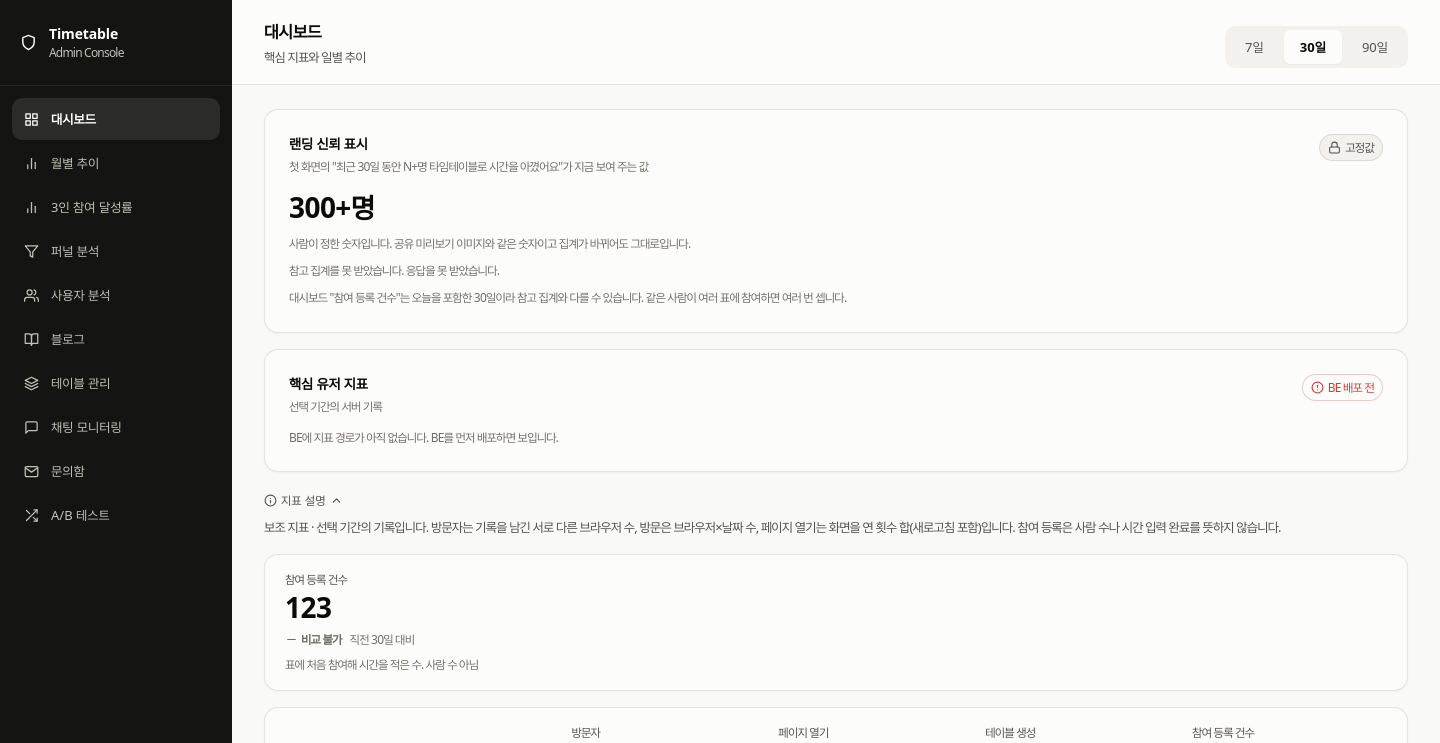
월별 기록의 빈 상태와 조회 실패를 구분하고 재시도한다
This screenshot has width=1440, height=743.
Click the button "월별 추이" at (116, 163), box 12,142 -> 220,184
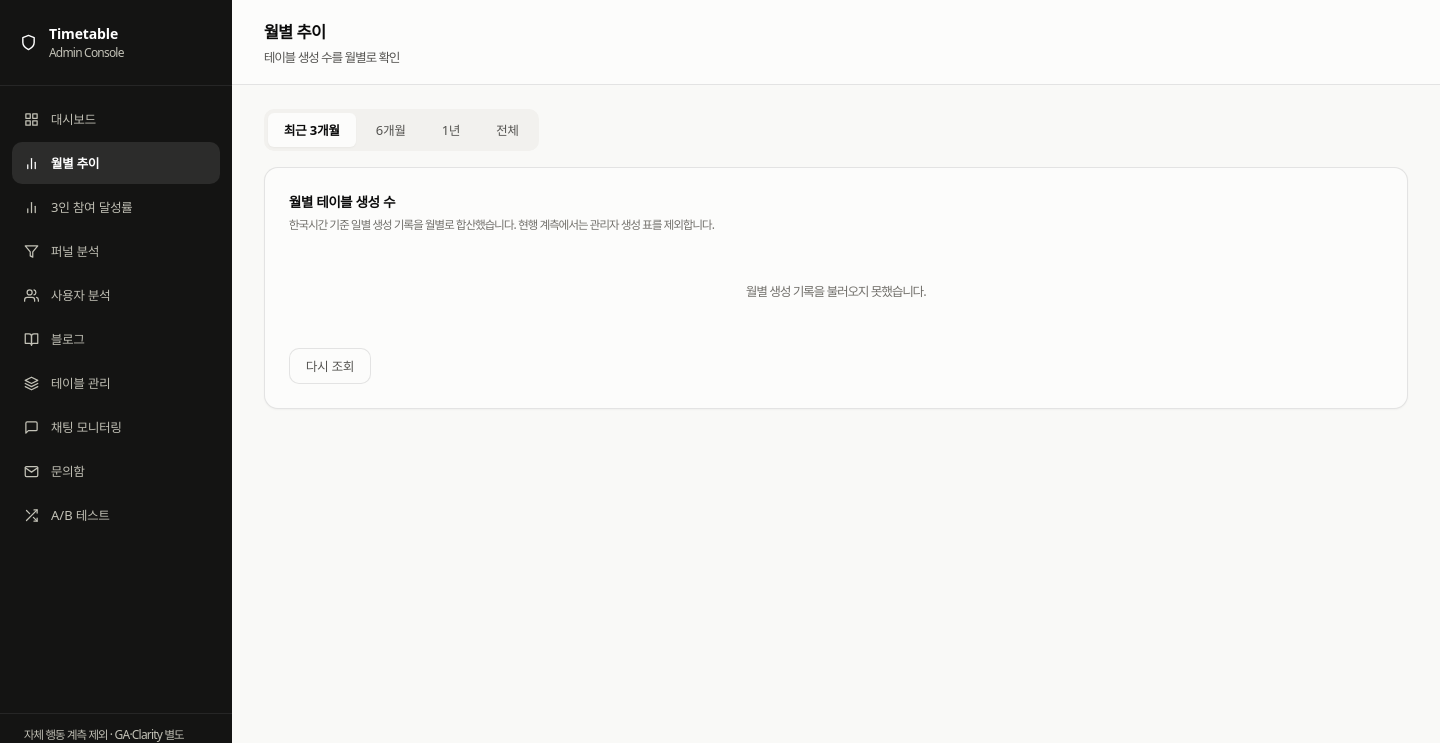
Result: the text "월별 생성 기록을 불러오지 못했습니다." is shown at 746,282 -> 926,300
Click the button "다시 조회" at (330, 366), box 289,348 -> 371,384
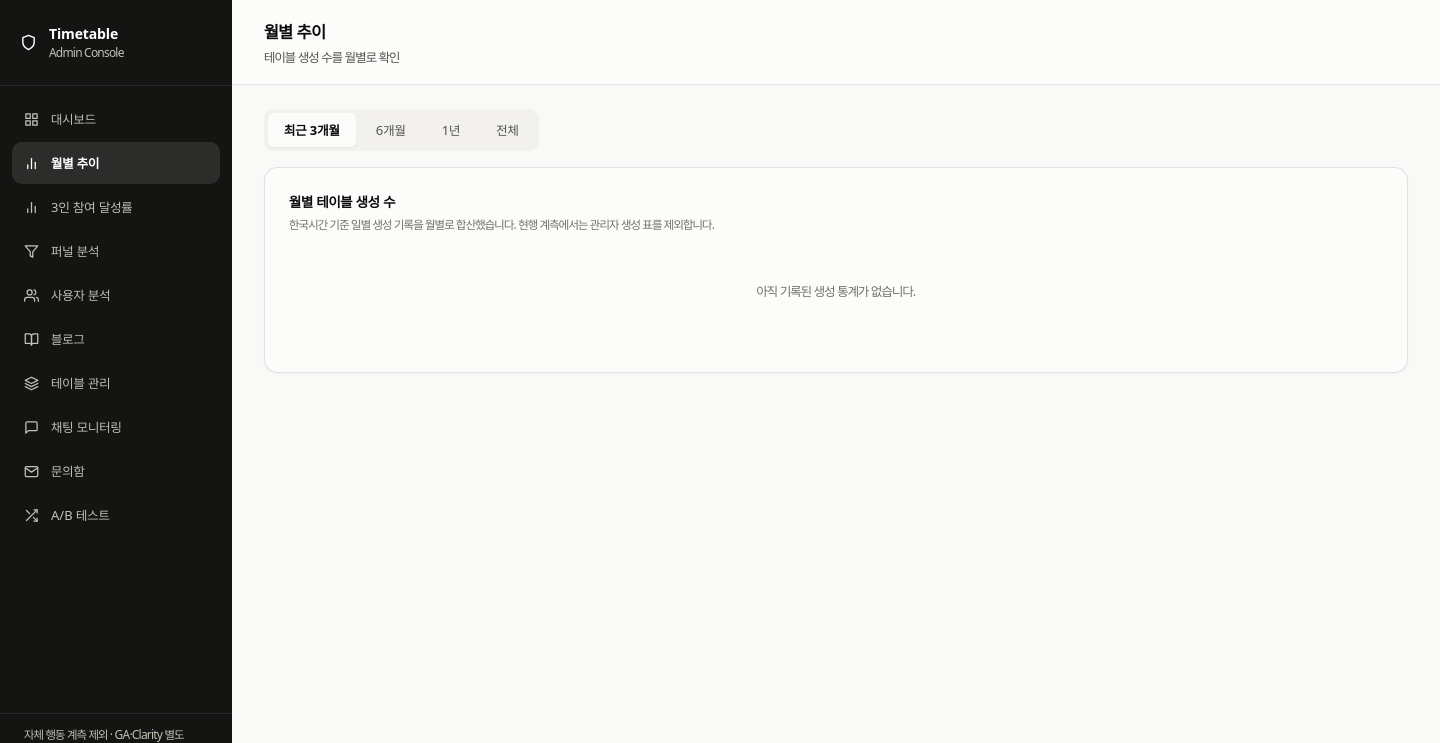
Result: the text "아직 기록된 생성 통계가 없습니다." is shown at 756,282 -> 916,300
